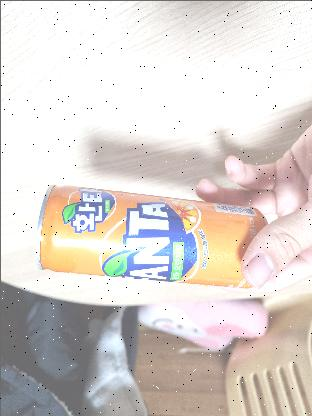Can: (34, 190, 262, 288)
